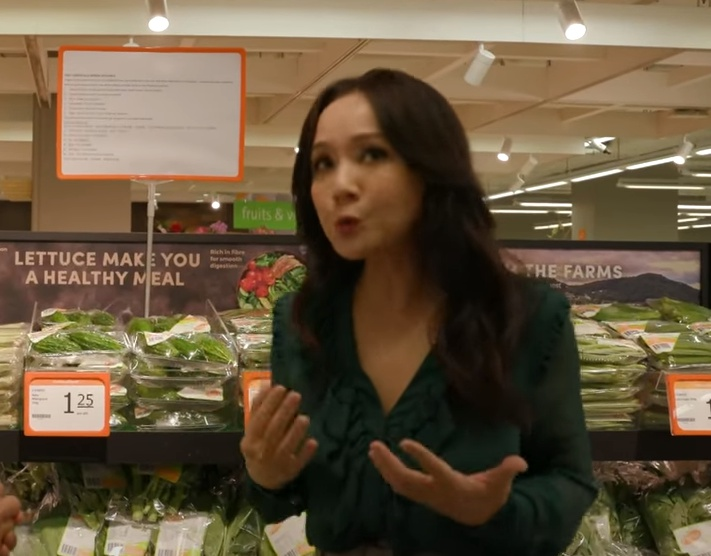mouth: (330, 213, 363, 235)
nose: (329, 185, 358, 199)
